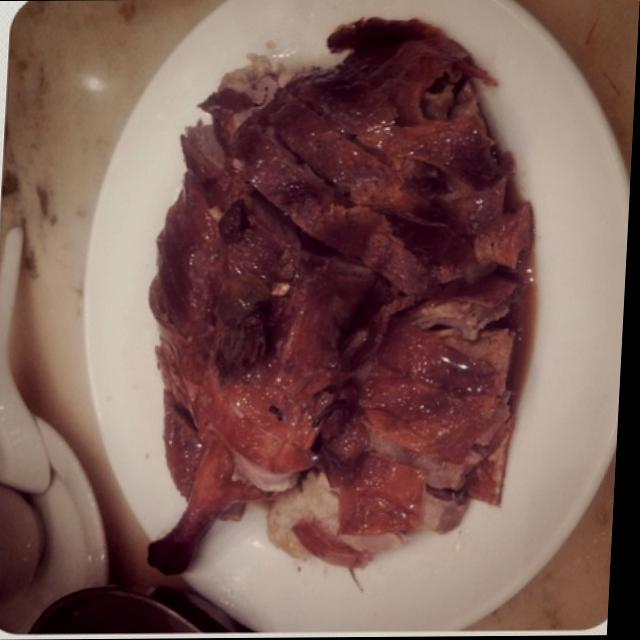烧串烤肉: (61, 25, 608, 593)
